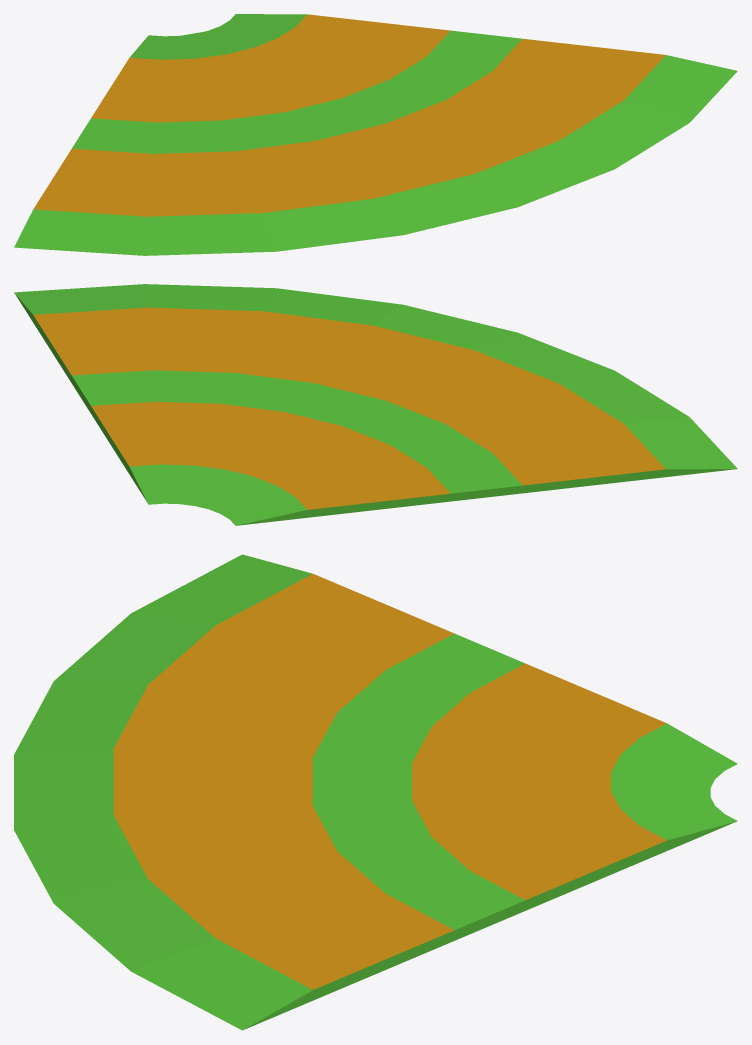
The model's file is Road Curve.fbx.
3 renders of one model, top to bottom at view 1: azimuth 30°, elevation 25°; view 2: azimuth 150°, elevation 25°; view 3: azimuth 270°, elevation 25°, orthographic. The views are drawn at different scales.
Visible parts, largest first — view 1: Road Curve; view 2: Road Curve; view 3: Road Curve.
Part boxes in pixels (x1,y1,x2,y2): Road Curve: (14, 14, 737, 255); Road Curve: (14, 284, 737, 525); Road Curve: (14, 554, 737, 1030).
Bounding box in the file's own units: 1929 × 20 × 1239.
